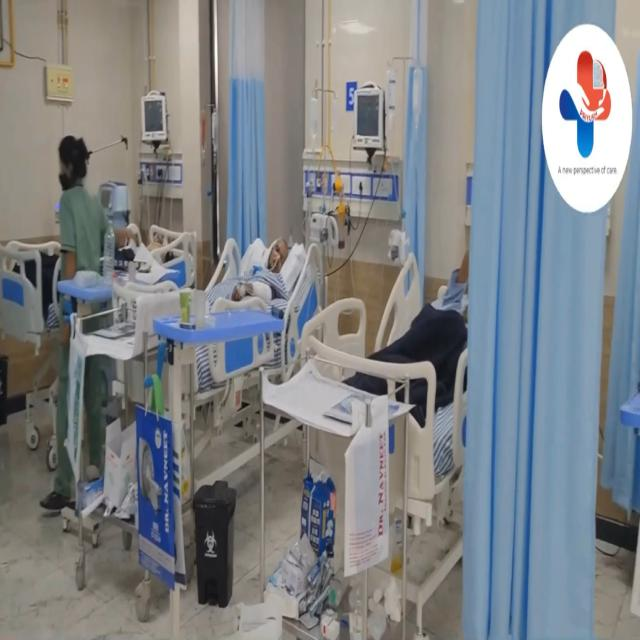Nurse: (44, 130, 106, 498)
Patient: (244, 221, 301, 313), (436, 220, 471, 336), (140, 214, 192, 278)
